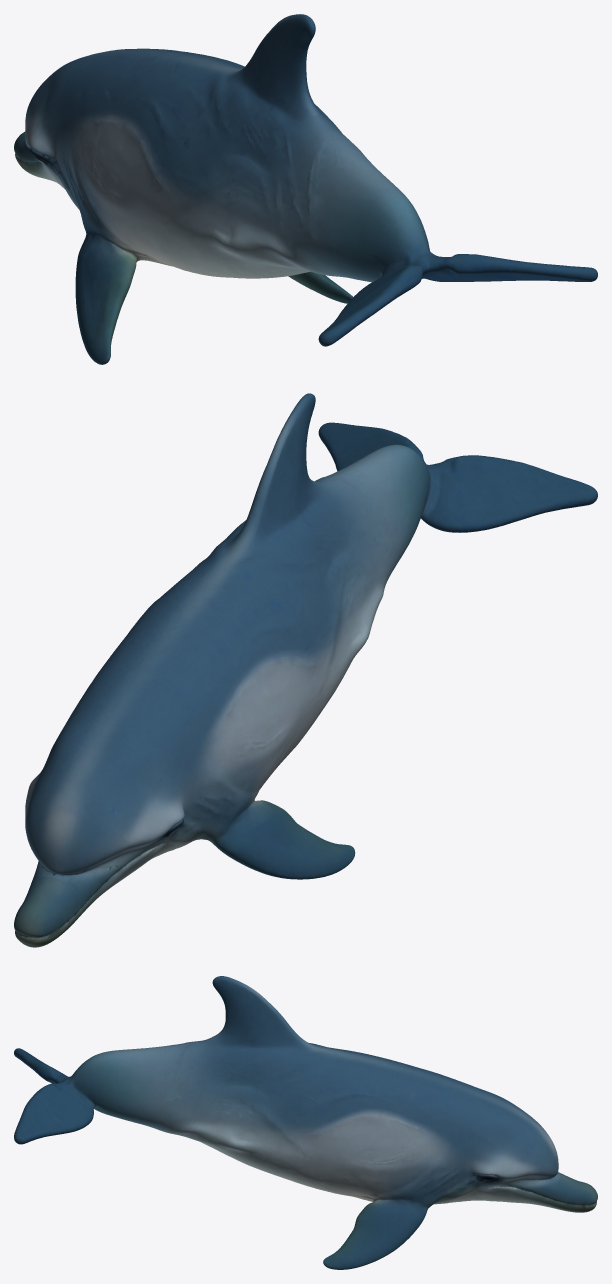
File: haitun.glb
3 renders of one model, top to bottom at view 1: azimuth 30°, elevation 25°; view 2: azimuth 150°, elevation 25°; view 3: azimuth 270°, elevation 25°, orthographic. The views are drawn at different scales.
Parts seen in each view (by area): view 1: tripo_node_2c124a08-af3f-4be9-bac4-ab4fb95f9efe; view 2: tripo_node_2c124a08-af3f-4be9-bac4-ab4fb95f9efe; view 3: tripo_node_2c124a08-af3f-4be9-bac4-ab4fb95f9efe.
Part boxes in pixels (x1,y1,x2,y2): tripo_node_2c124a08-af3f-4be9-bac4-ab4fb95f9efe: (14,14,597,364); tripo_node_2c124a08-af3f-4be9-bac4-ab4fb95f9efe: (14,393,597,947); tripo_node_2c124a08-af3f-4be9-bac4-ab4fb95f9efe: (14,976,597,1269).
Bounding box in the file's own units: 0.3649 × 0.4794 × 0.9999.
Materials: 1 (1 with a texture image).
